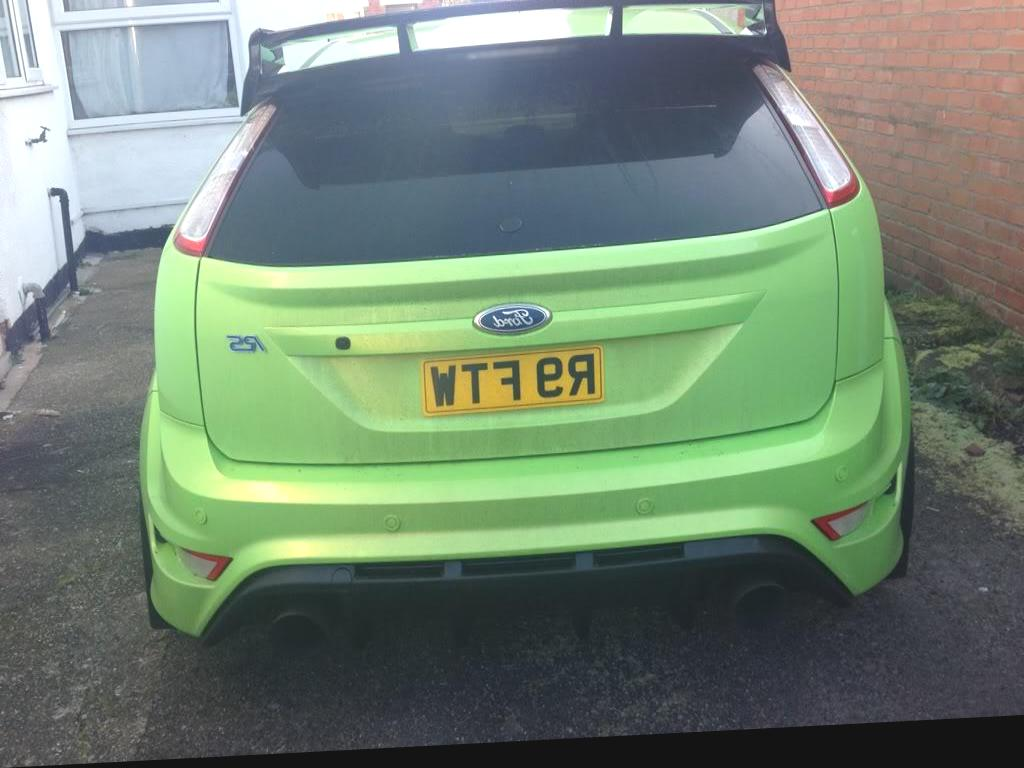License_Plate: (411, 334, 610, 436)
